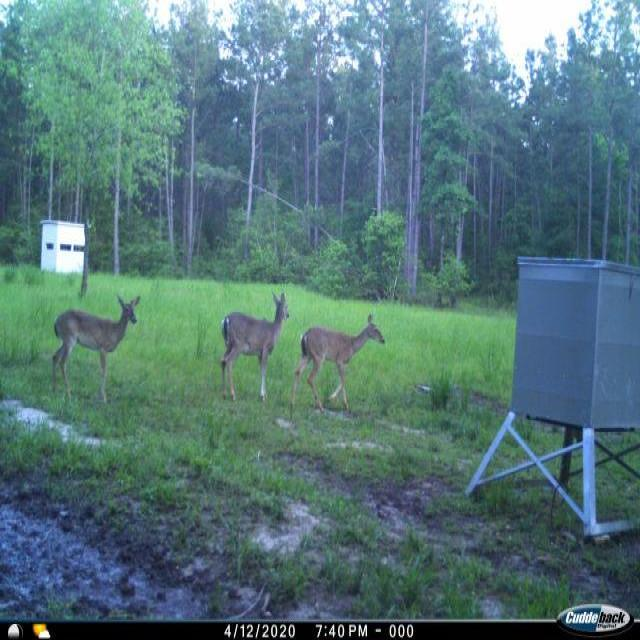deer: (45, 292, 146, 408), (291, 310, 388, 418), (214, 289, 295, 412)
